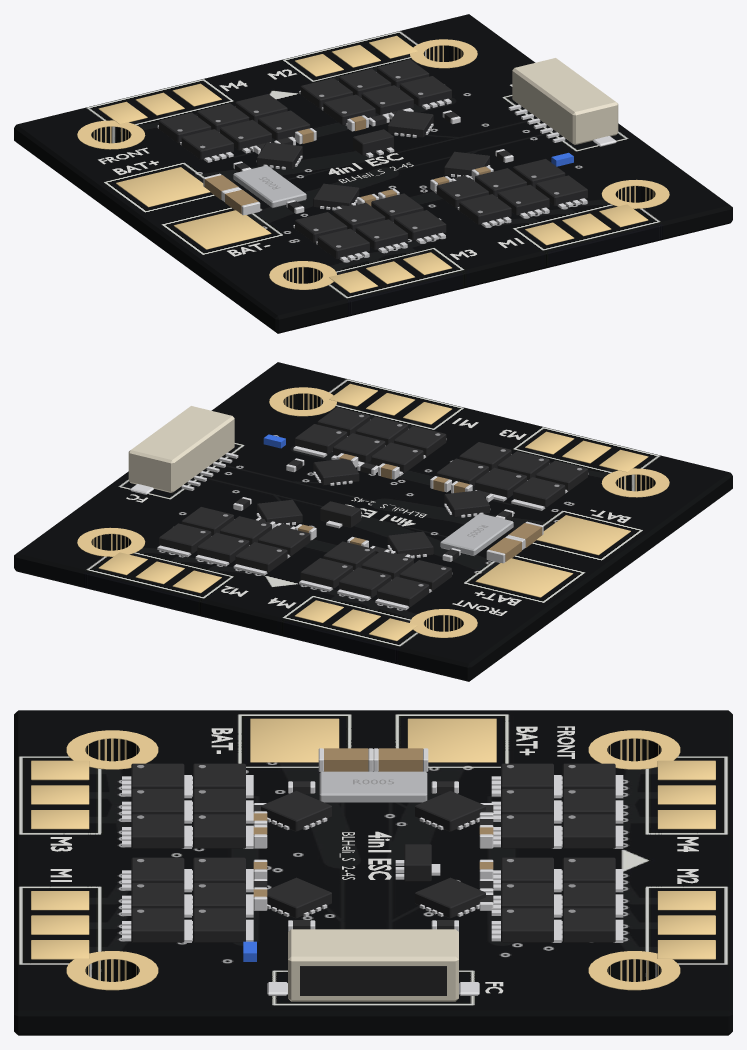
Rendered from esc_4en1.glb.
The picture shows the model from 3 angles, top to bottom: view 1: azimuth 30°, elevation 25°; view 2: azimuth 150°, elevation 25°; view 3: azimuth 270°, elevation 25°; orthographic projection. The views are drawn at different scales.
Parts seen in each view (by area): view 1: pcb, mosfets, conector_FC, agujeros_montaje, micros, smd_pasivos, pad_BATN, pad_BATP, shunt, serigrafia, regulador, pad_M1_1 (+11 smaller); view 2: pcb, mosfets, conector_FC, agujeros_montaje, micros, smd_pasivos, pad_BATP, pad_BATN, shunt, serigrafia, regulador, pad_M2_1 (+11 smaller); view 3: pcb, mosfets, conector_FC, agujeros_montaje, micros, smd_pasivos, pad_BATN, pad_BATP, shunt, serigrafia, regulador, pad_M3_1 (+11 smaller).
Boxes of the visible parts, x1,y1,x2,y2 form: pcb: [14, 14, 732, 333]; mosfets: [157, 59, 587, 262]; conector_FC: [508, 58, 618, 146]; agujeros_montaje: [77, 39, 669, 289]; micros: [256, 110, 490, 210]; smd_pasivos: [203, 109, 513, 215]; pad_BATN: [173, 210, 271, 249]; pad_BATP: [116, 167, 210, 207]; shunt: [233, 165, 306, 207]; serigrafia: [98, 69, 524, 259]; regulador: [353, 129, 394, 157]; pad_M1_1: [525, 222, 574, 245]; pcb: [14, 362, 732, 681]; mosfets: [157, 407, 588, 610]; conector_FC: [128, 406, 238, 494]; agujeros_montaje: [77, 387, 669, 637]; micros: [256, 459, 490, 558]; smd_pasivos: [233, 453, 543, 563]; pad_BATP: [475, 558, 573, 597]; pad_BATN: [536, 515, 630, 555]; shunt: [440, 513, 513, 555]; serigrafia: [126, 418, 631, 615]; regulador: [320, 501, 361, 528]; pad_M2_1: [172, 570, 221, 593]; pcb: [14, 710, 732, 1035]; mosfets: [122, 763, 623, 942]; conector_FC: [267, 929, 479, 1001]; agujeros_montaje: [66, 730, 680, 990]; micros: [261, 791, 485, 918]; smd_pasivos: [253, 748, 493, 931]; pad_BATN: [250, 718, 339, 762]; pad_BATP: [407, 718, 496, 762]; shunt: [319, 771, 427, 802]; serigrafia: [50, 726, 698, 993]; regulador: [395, 844, 440, 881]; pad_M3_1: [31, 760, 89, 780].
Bounding box in the file's own units: 0.042 × 0.00453 × 0.042.
Materials: 11 (1 with a texture image).
